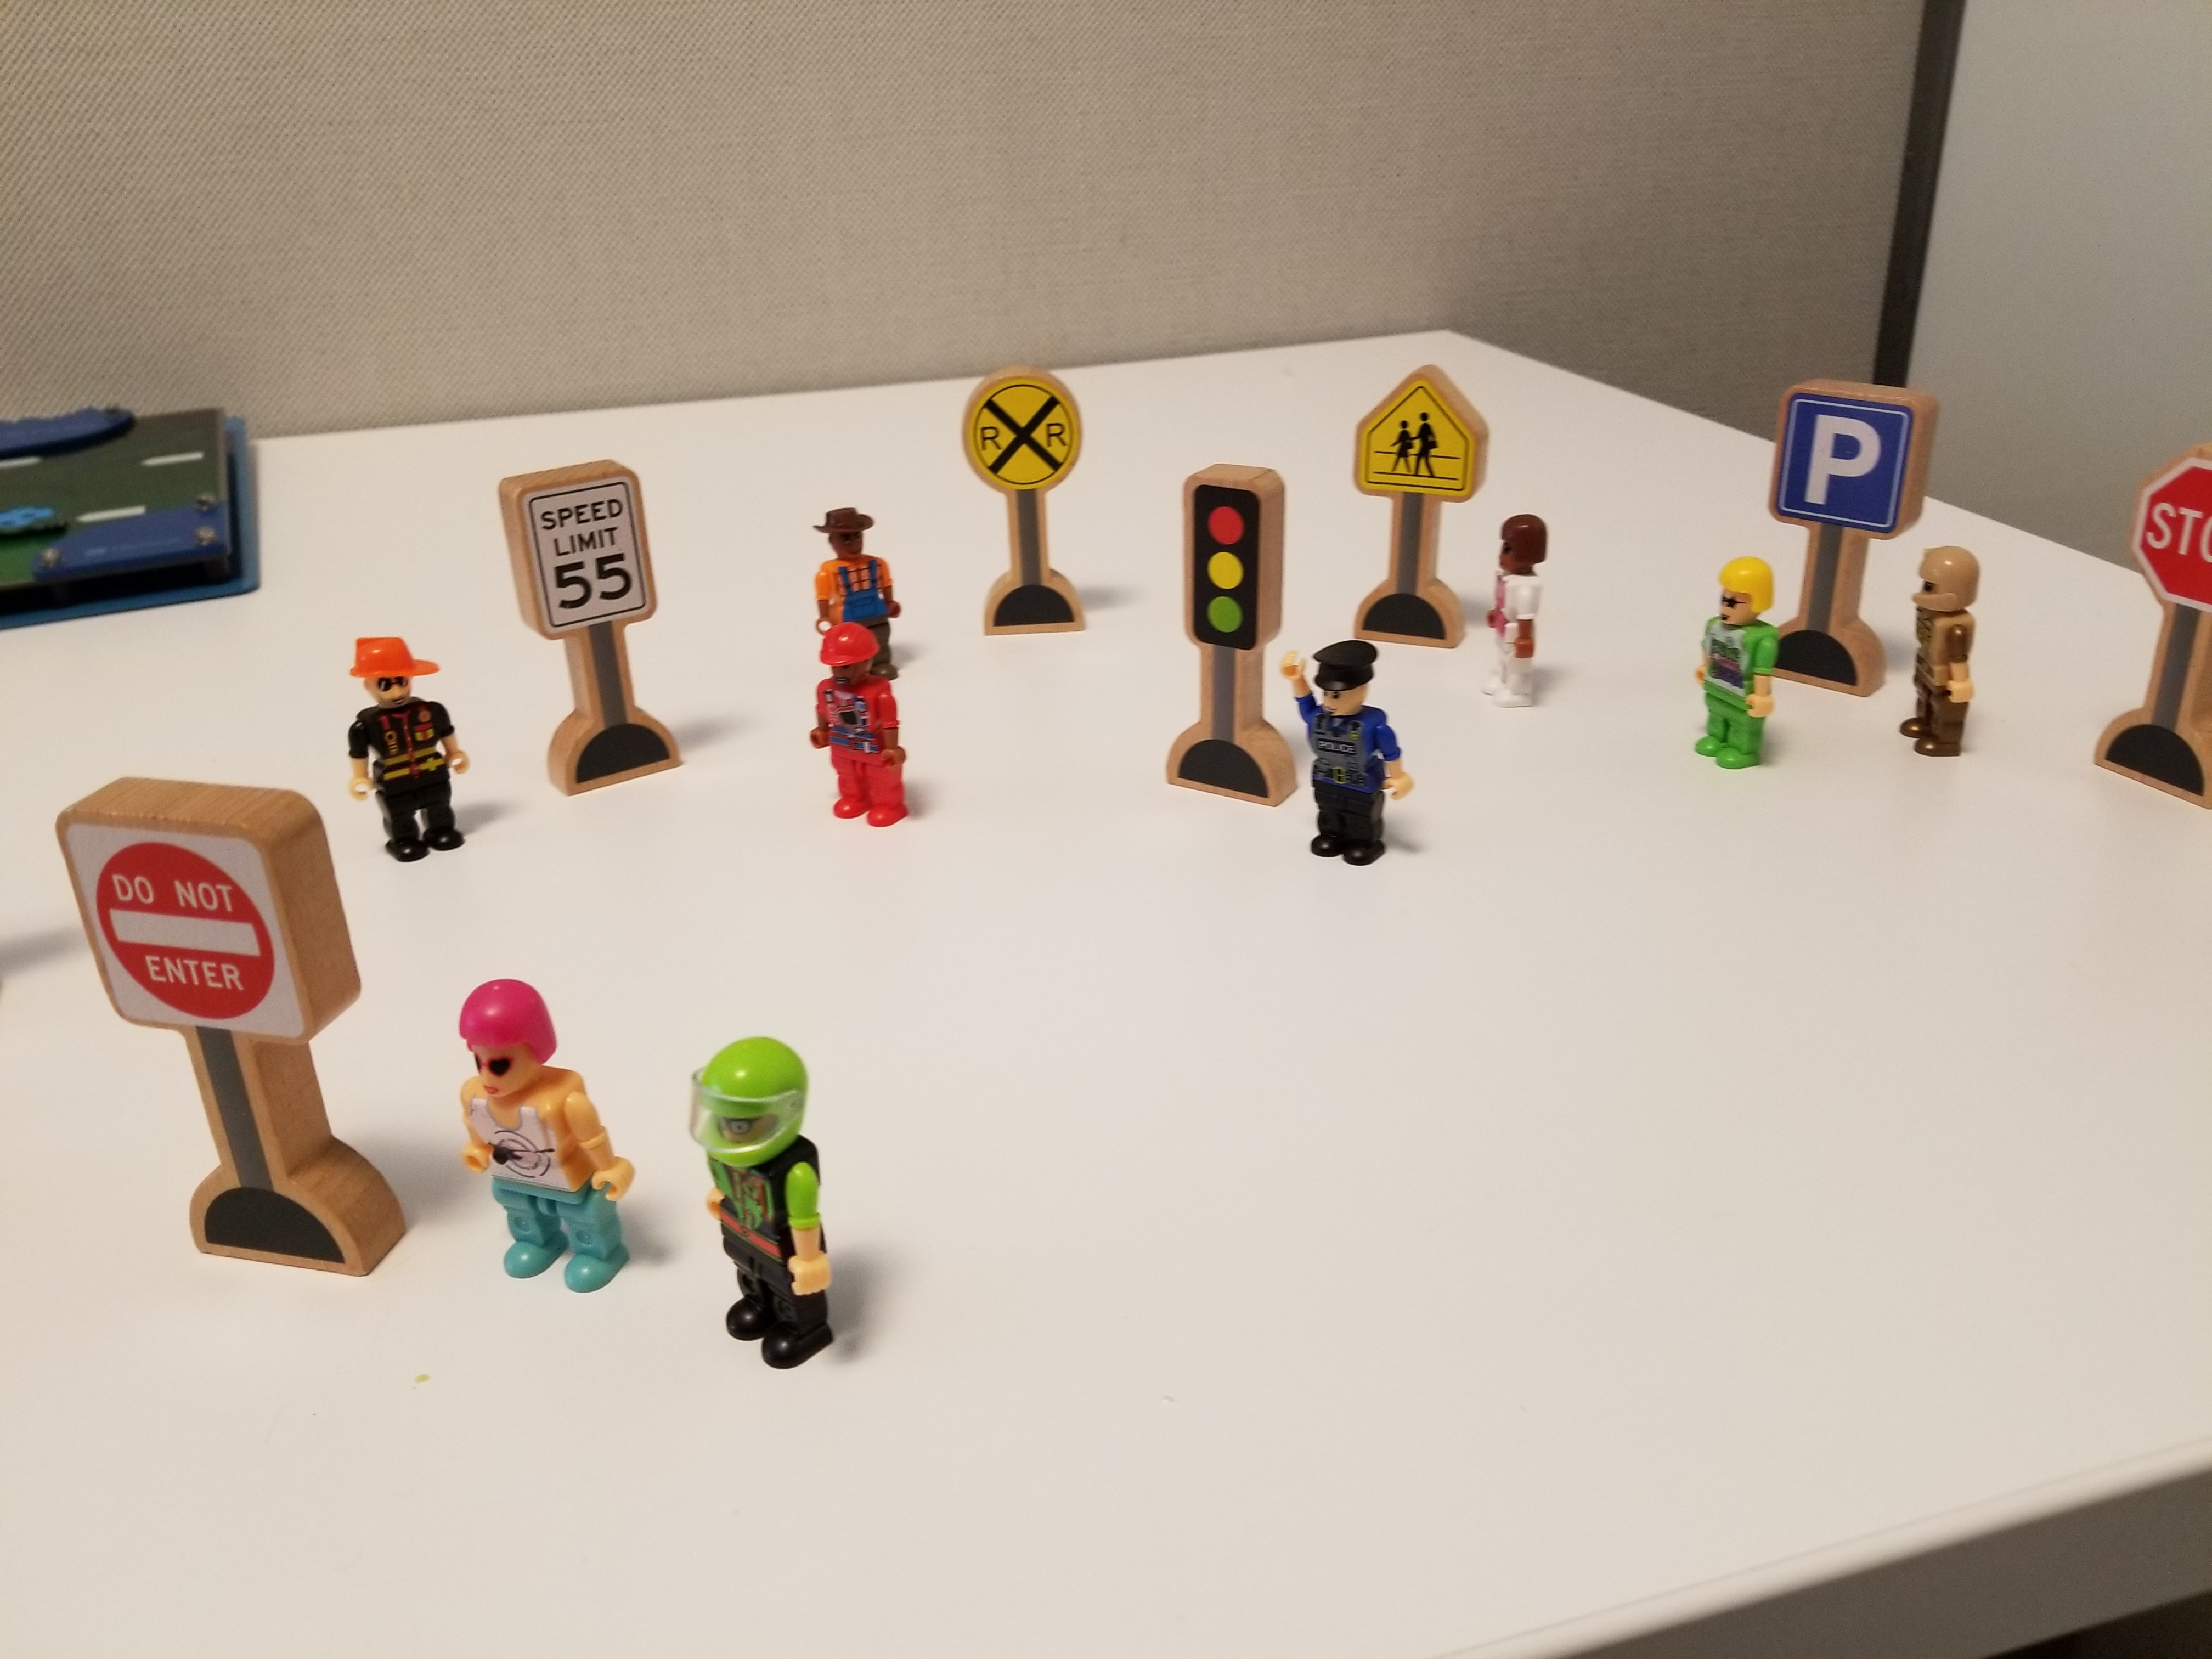Do not enter: (49, 780, 420, 1302)
Parking: (1772, 343, 1926, 668)
Pedestrian crossing: (1342, 321, 1478, 642)
Railroad Crossing: (940, 326, 1118, 666)
Speed limit 55: (486, 440, 736, 795)
Traffic Light: (1151, 414, 1305, 846)
person: (673, 1008, 855, 1432), (453, 967, 635, 1318), (791, 598, 958, 861), (1276, 624, 1430, 894), (332, 613, 477, 892), (1691, 528, 1809, 806), (1908, 537, 2007, 804), (1474, 508, 1579, 732), (811, 488, 899, 611)
